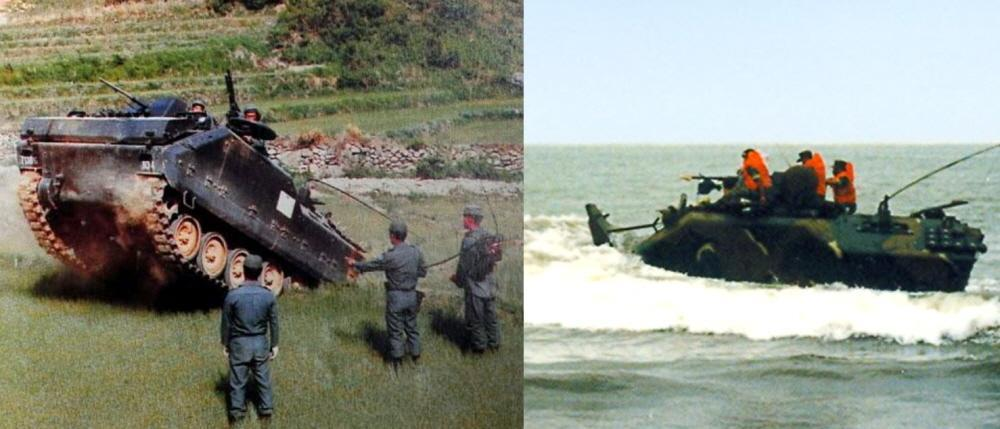MIL_IFV: (20, 67, 366, 303), (585, 140, 987, 299)
